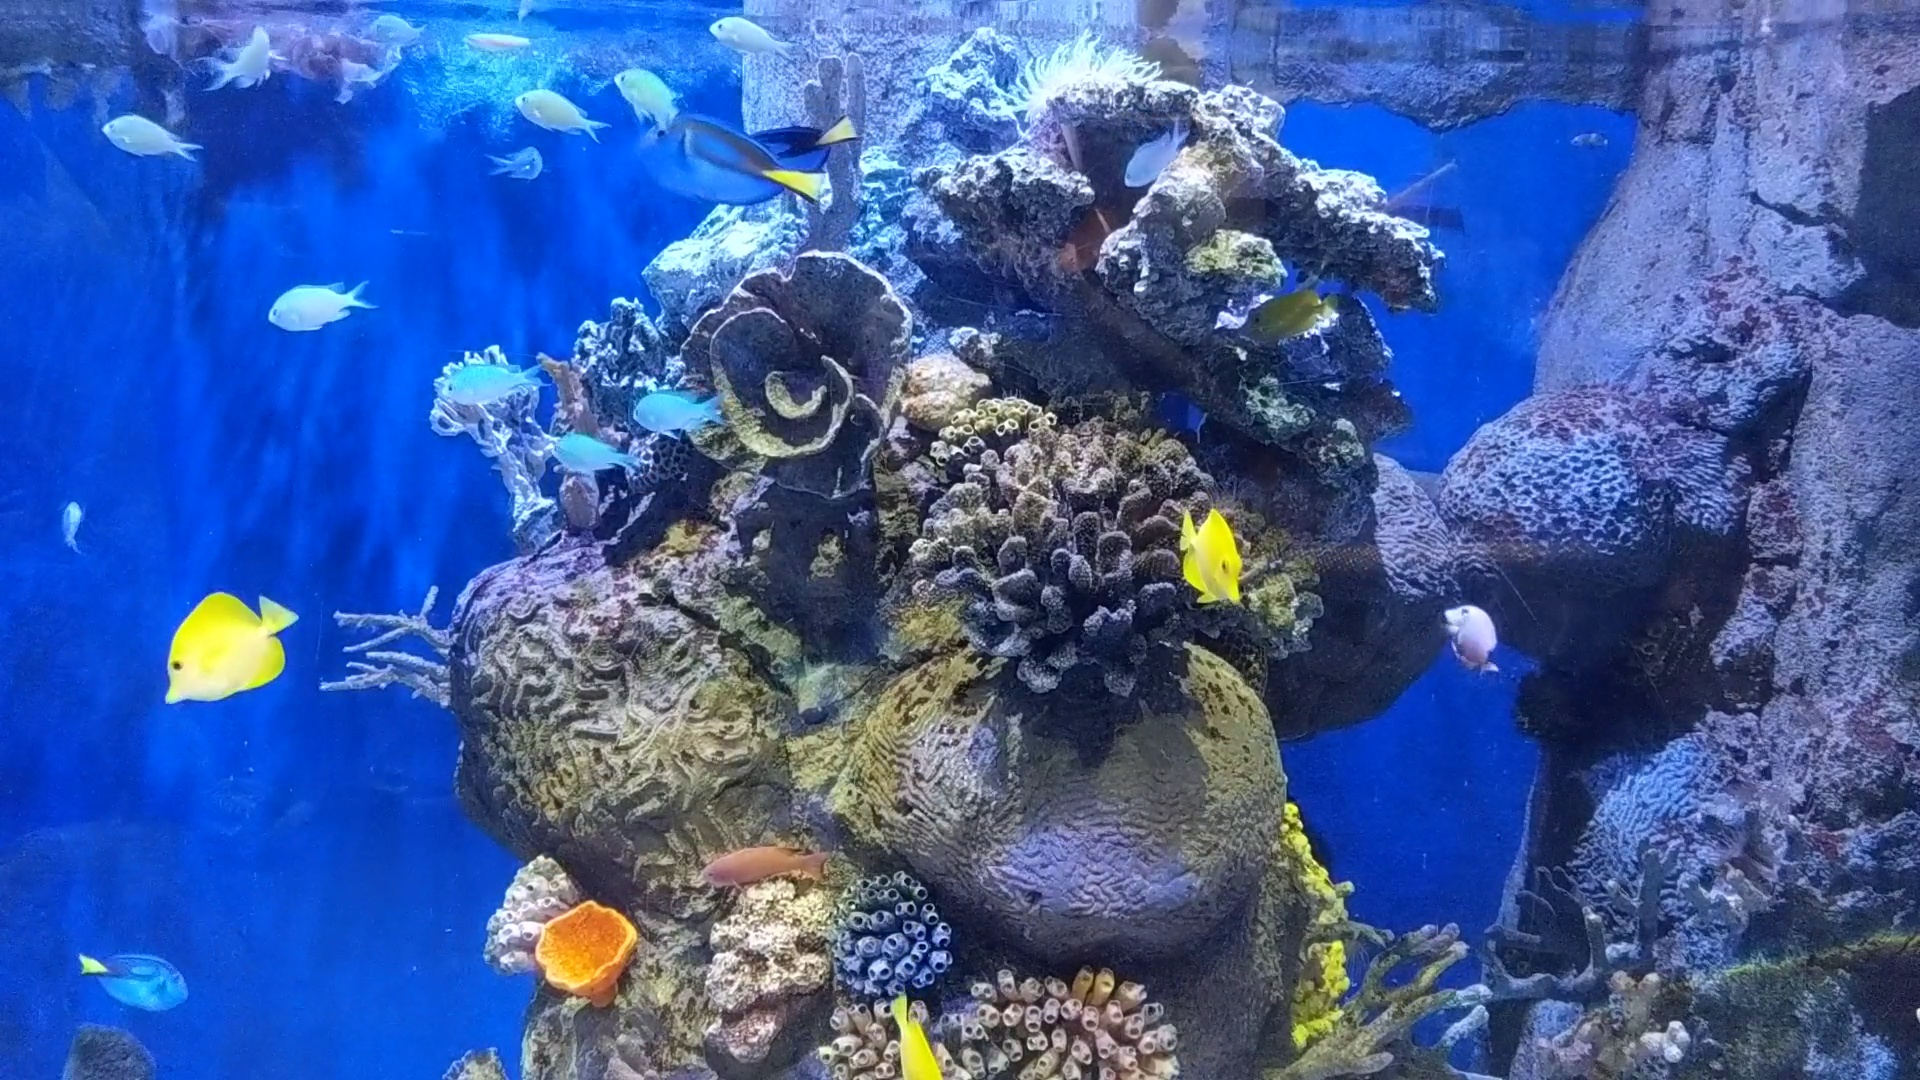blue tang surgeonfish: (632, 119, 835, 229), (71, 927, 194, 1025)
damselfish: (255, 265, 375, 340), (496, 91, 600, 160), (620, 388, 735, 444), (95, 105, 198, 167), (530, 429, 640, 487), (429, 357, 554, 406), (1113, 109, 1197, 181), (703, 11, 800, 61), (611, 53, 682, 121), (204, 32, 280, 95), (468, 142, 549, 185), (45, 500, 88, 562)
pink fish: (1428, 589, 1510, 678)
saddle butterfly fish: (141, 574, 298, 713), (1163, 488, 1258, 615)
